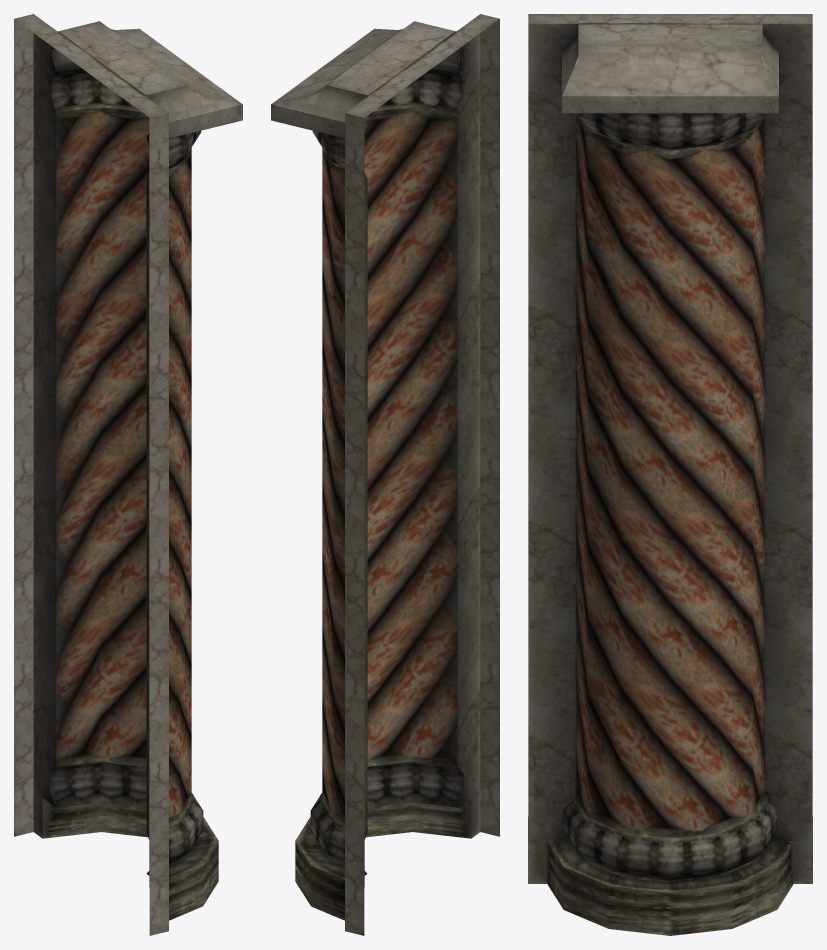
Rendered from Column.FBX.
The picture shows the model from 3 angles, left to right: view 1: azimuth 30°, elevation 25°; view 2: azimuth 150°, elevation 25°; view 3: azimuth 270°, elevation 25°; orthographic projection. The views are drawn at different scales.
Visible parts, largest first — view 1: column_326; view 2: column_326; view 3: column_326.
Boxes of the visible parts, x1,y1,x2,y2 form: column_326: (14,14,242,935); column_326: (271,14,499,935); column_326: (528,14,812,935).
Size of the model in its own units: 31 by 60.03 by 200.
